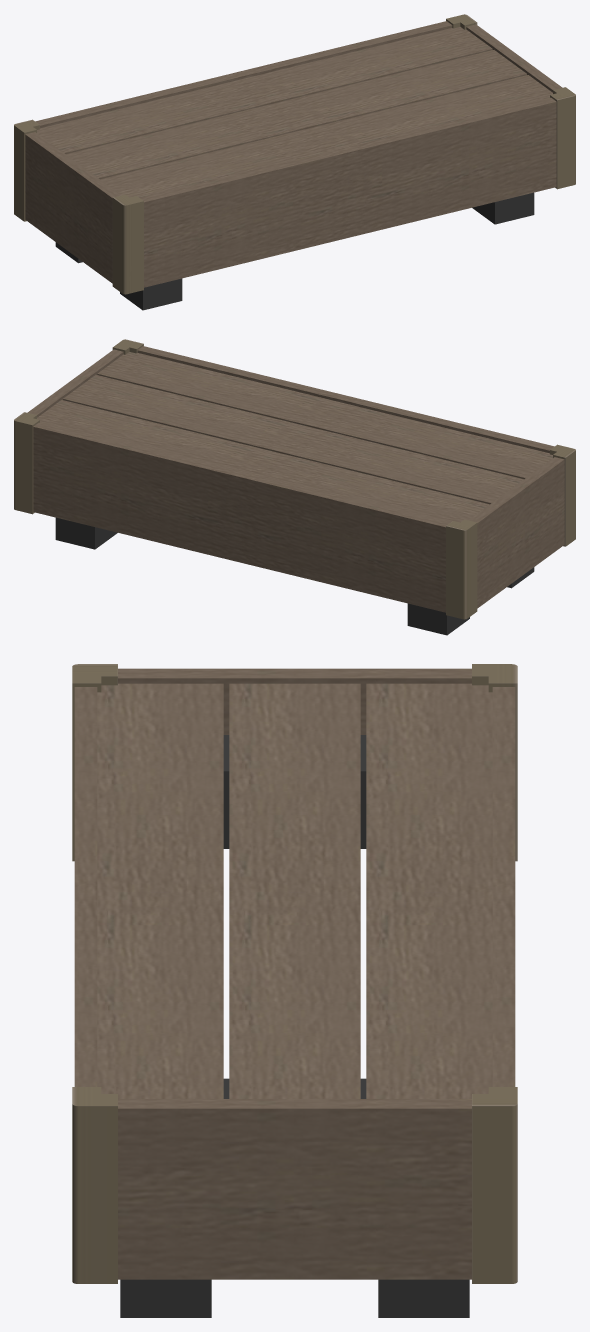
The model's file is ecowoodreal-step_sepiabrown.fbx.
3 views of the same model, one above another, from view 1: azimuth 30°, elevation 25°; view 2: azimuth 150°, elevation 25°; view 3: azimuth 270°, elevation 25° (orthographic). The views are drawn at different scales.
Visible parts, largest first — view 1: ecowoodreal-step_sepiabrown2; view 2: ecowoodreal-step_sepiabrown2; view 3: ecowoodreal-step_sepiabrown2.
Boxes of the visible parts, x1,y1,x2,y2 form: ecowoodreal-step_sepiabrown2: (14, 14, 575, 310); ecowoodreal-step_sepiabrown2: (14, 339, 575, 635); ecowoodreal-step_sepiabrown2: (72, 664, 517, 1317).
Size of the model in its own units: 91.6 by 23.35 by 39.
3 materials, 3 textured.
